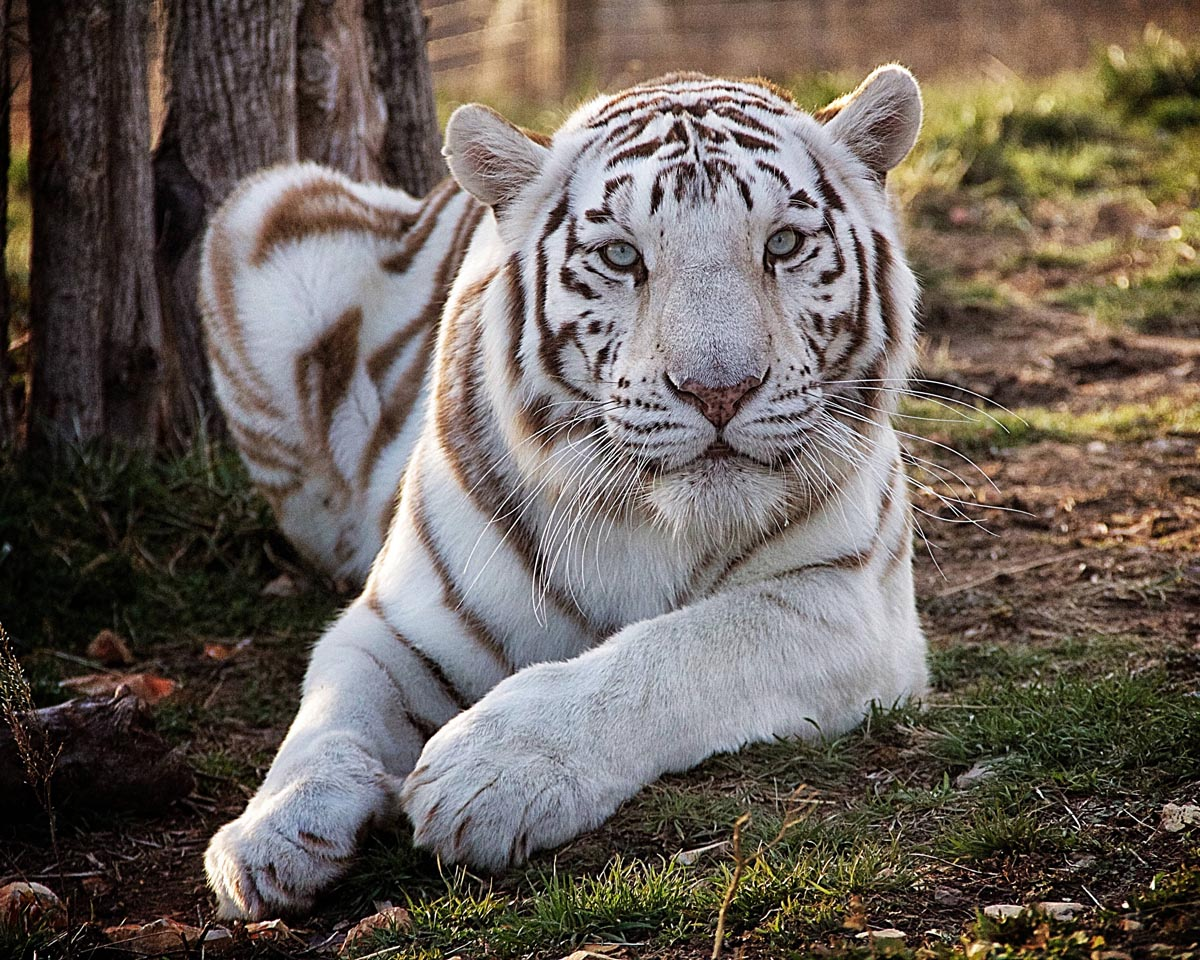Tiger: (108, 54, 965, 895)
